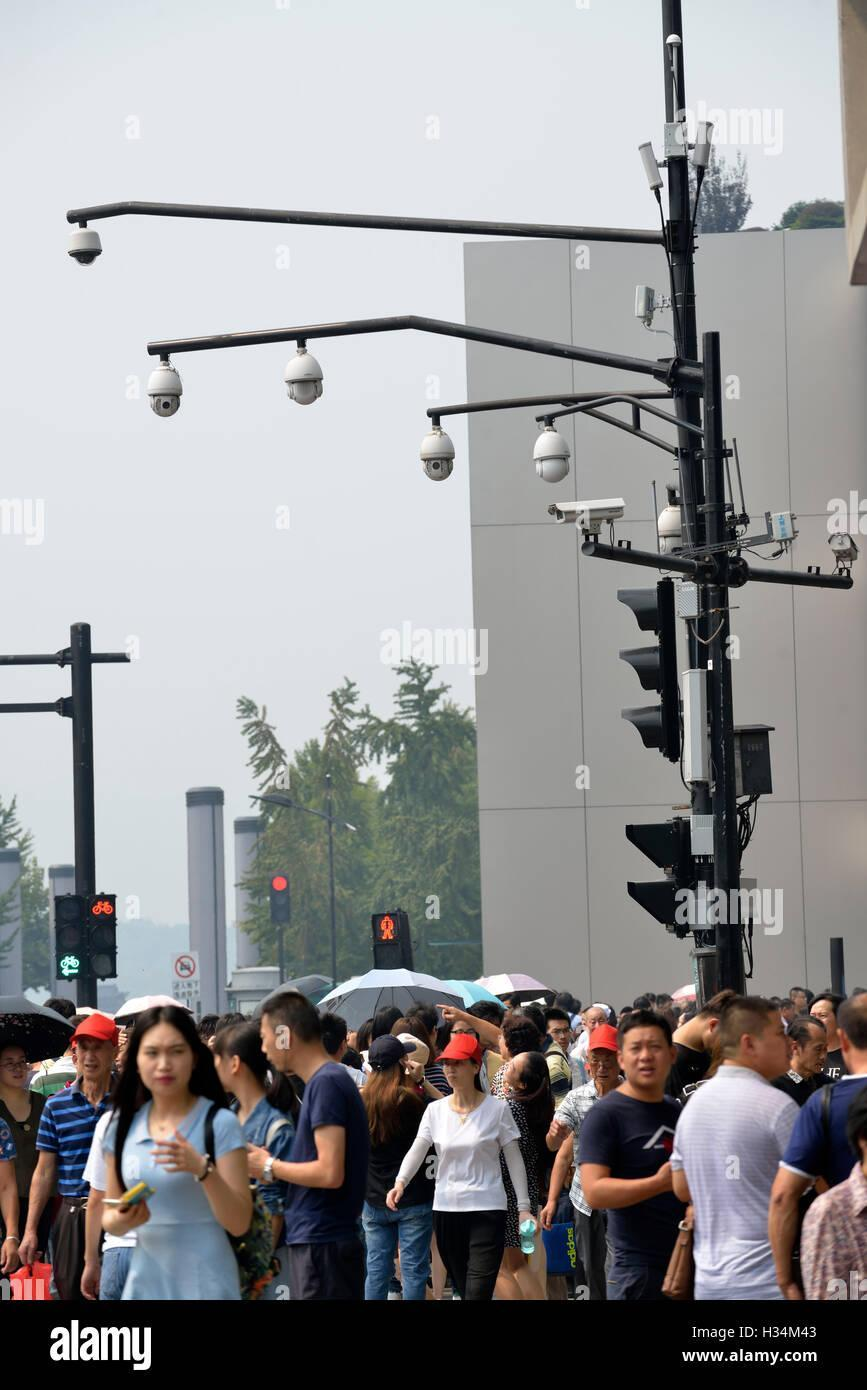------------------------------: (550, 492, 628, 528)
360-Cam: (278, 348, 333, 408), (528, 428, 577, 490), (142, 362, 187, 422), (415, 427, 460, 485), (63, 222, 105, 272)
